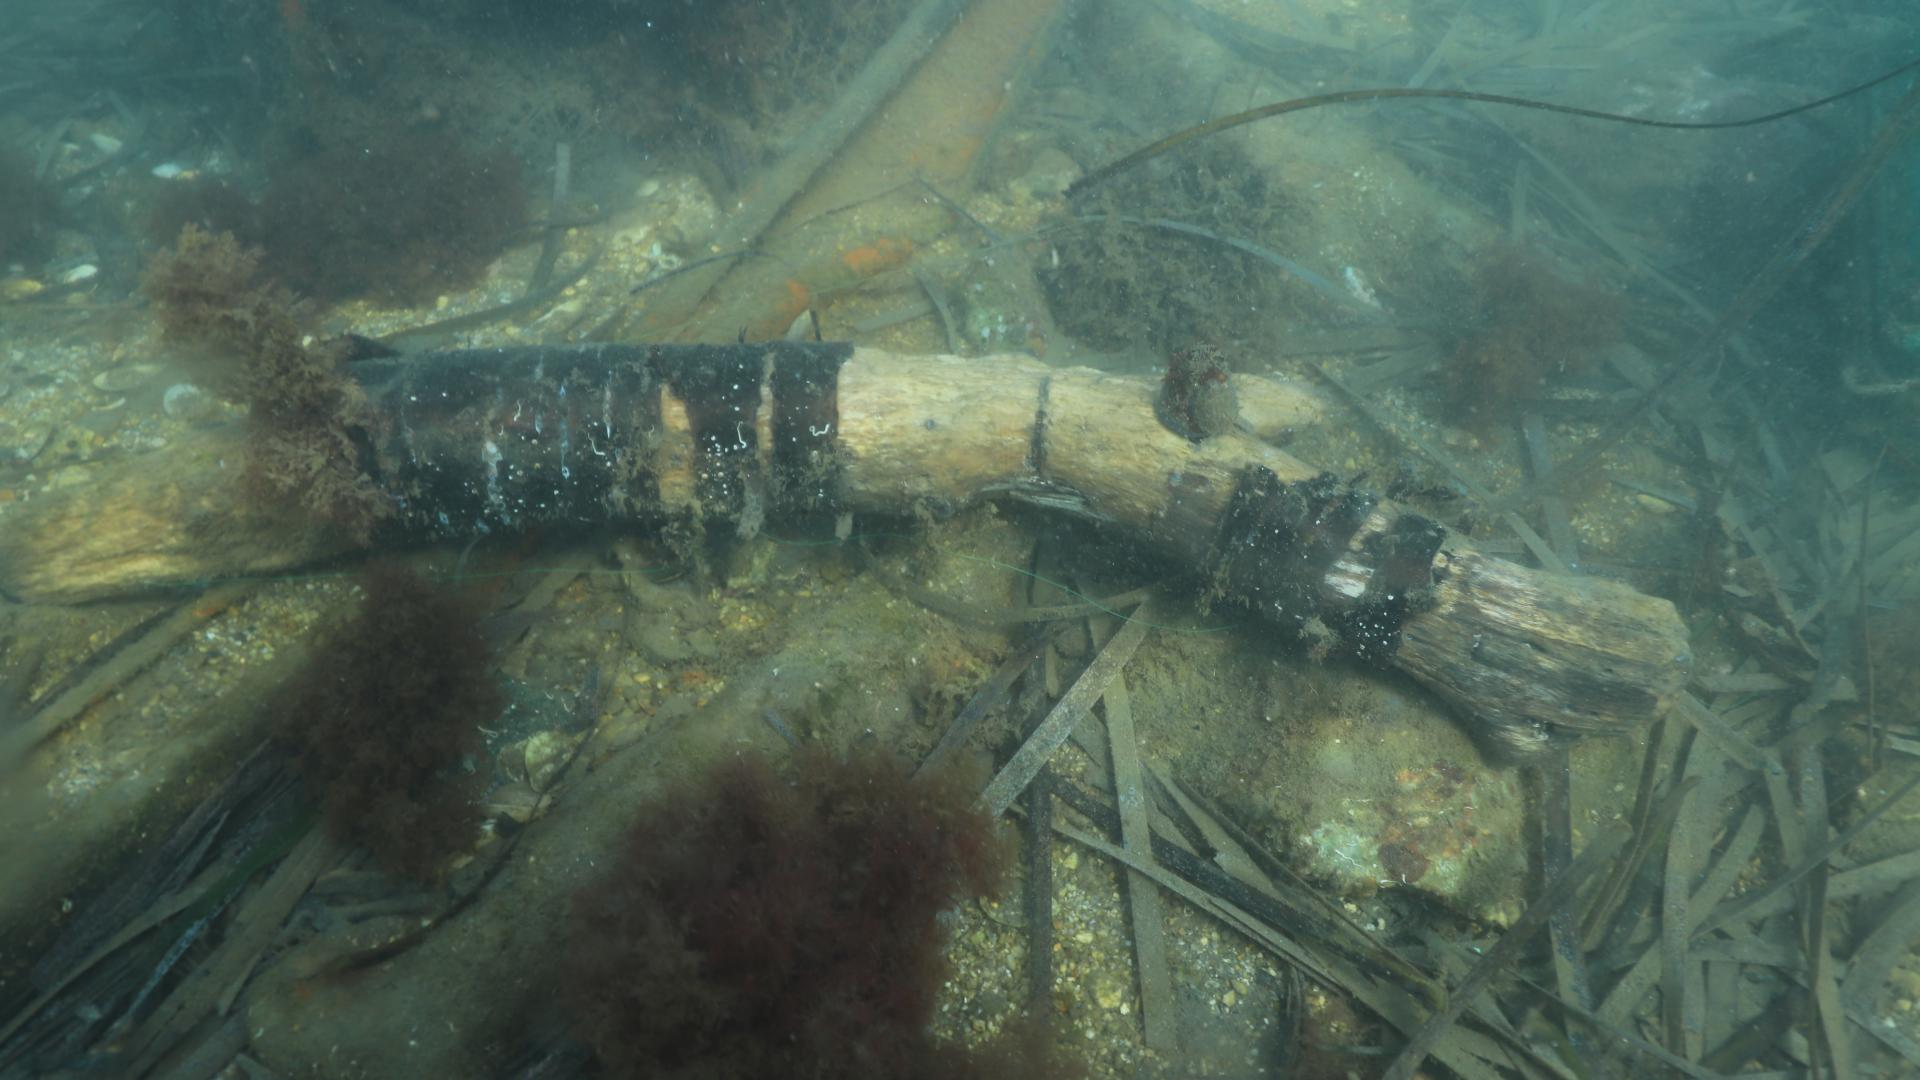wood: (0, 313, 1698, 775)
